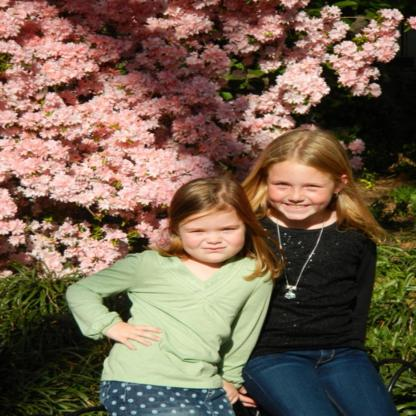face: (266, 159, 333, 221), (183, 206, 247, 265)
